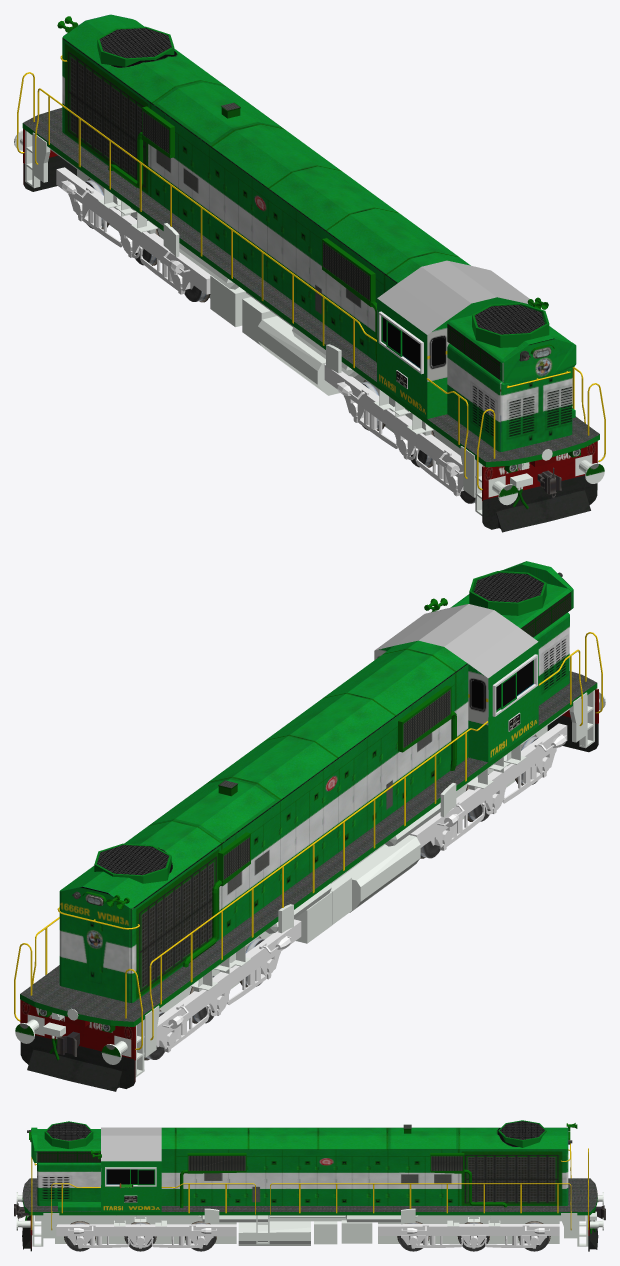
File: loco_wdg3a_itarsi.glb
3 views of the same model, one above another, from view 1: azimuth 30°, elevation 25°; view 2: azimuth 150°, elevation 25°; view 3: azimuth 270°, elevation 25° (orthographic). The views are drawn at different scales.
Visible parts, largest first — view 1: wdg_3a_itarsi__indian_railway_wdg3a_goc_13449.glb; view 2: wdg_3a_itarsi__indian_railway_wdg3a_goc_13449.glb; view 3: wdg_3a_itarsi__indian_railway_wdg3a_goc_13449.glb.
Part boxes in pixels (left/top/right/bottom): wdg_3a_itarsi__indian_railway_wdg3a_goc_13449.glb: left=14, top=14, right=605, bottom=532; wdg_3a_itarsi__indian_railway_wdg3a_goc_13449.glb: left=14, top=561, right=605, bottom=1091; wdg_3a_itarsi__indian_railway_wdg3a_goc_13449.glb: left=14, top=1120, right=605, bottom=1251.
Bounding box in the file's own units: 3.22 × 4.32 × 20.06.
5 materials, 4 textured.
